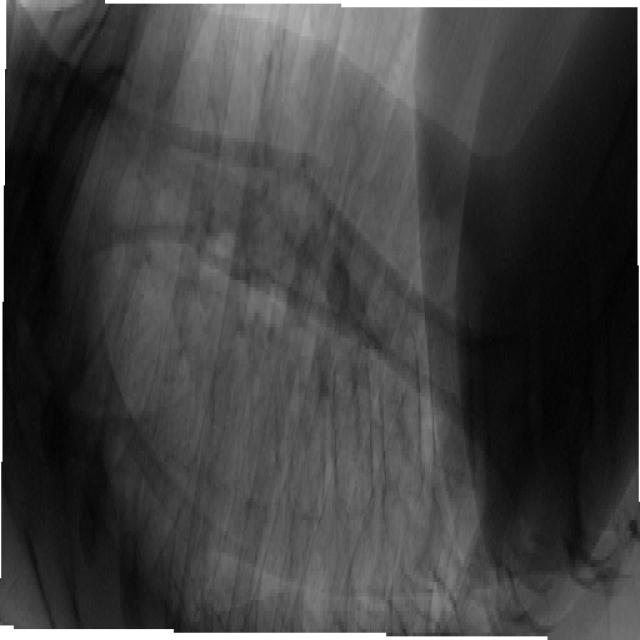humerus fracture: (249, 100, 367, 319)
